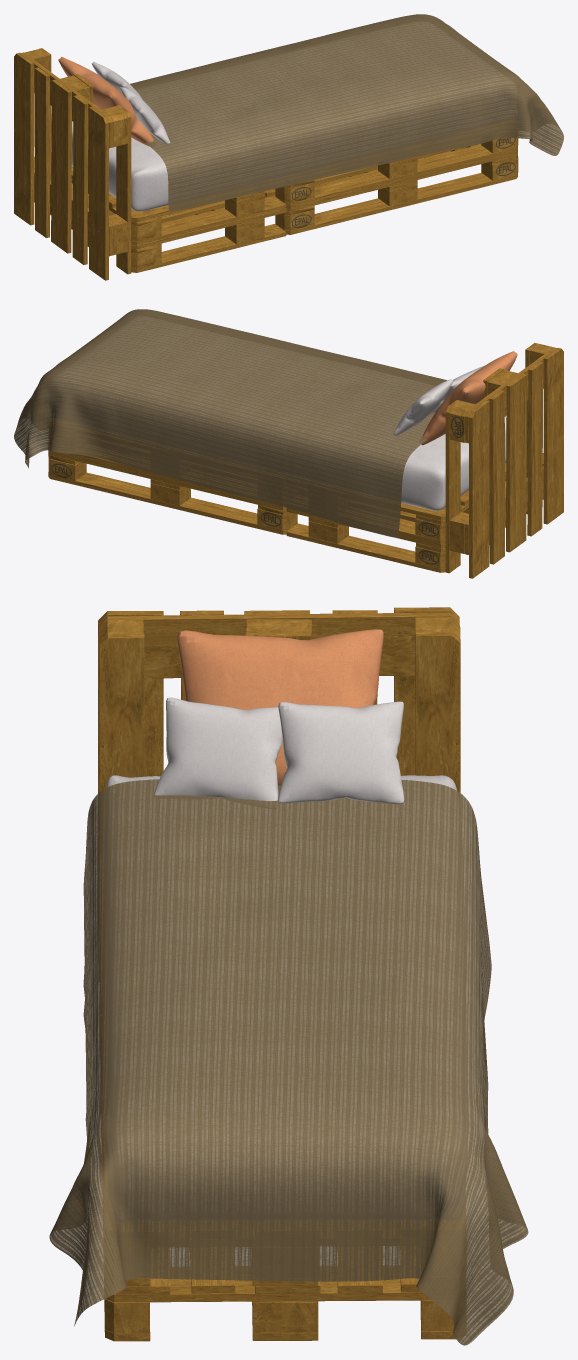
File: Single Bed 1.glb
The picture shows the model from 3 angles, top to bottom: view 1: azimuth 30°, elevation 25°; view 2: azimuth 150°, elevation 25°; view 3: azimuth 270°, elevation 25°; orthographic projection. The views are drawn at different scales.
Visible parts, largest first — view 1: Plane, Cube.181, Cube.013, Cube.009; view 2: Plane, Cube.181, Cube.013, Cube.009; view 3: Plane, Cube.013, Cube.181, Cube.009.
Boxes of the visible parts, x1,y1,x2,y2 form: Plane: (130,14,563,211); Cube.181: (14,48,518,280); Cube.013: (51,21,517,211); Cube.009: (58,57,154,146); Plane: (14,309,446,537); Cube.181: (48,343,563,578); Cube.013: (48,317,506,510); Cube.009: (421,351,517,445); Plane: (49,779,528,1345); Cube.013: (103,697,467,1222); Cube.181: (98,607,466,1341); Cube.009: (177,629,383,785).
Bounding box in the file's own units: 2.34 × 0.8106 × 1.06.
Materials: 6 (6 with a texture image).
